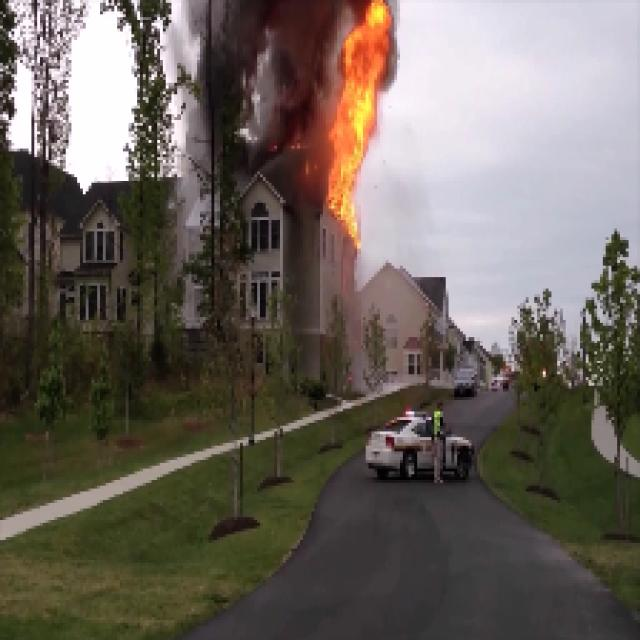fire: (330, 4, 380, 230)
smoke: (217, 15, 323, 130)
